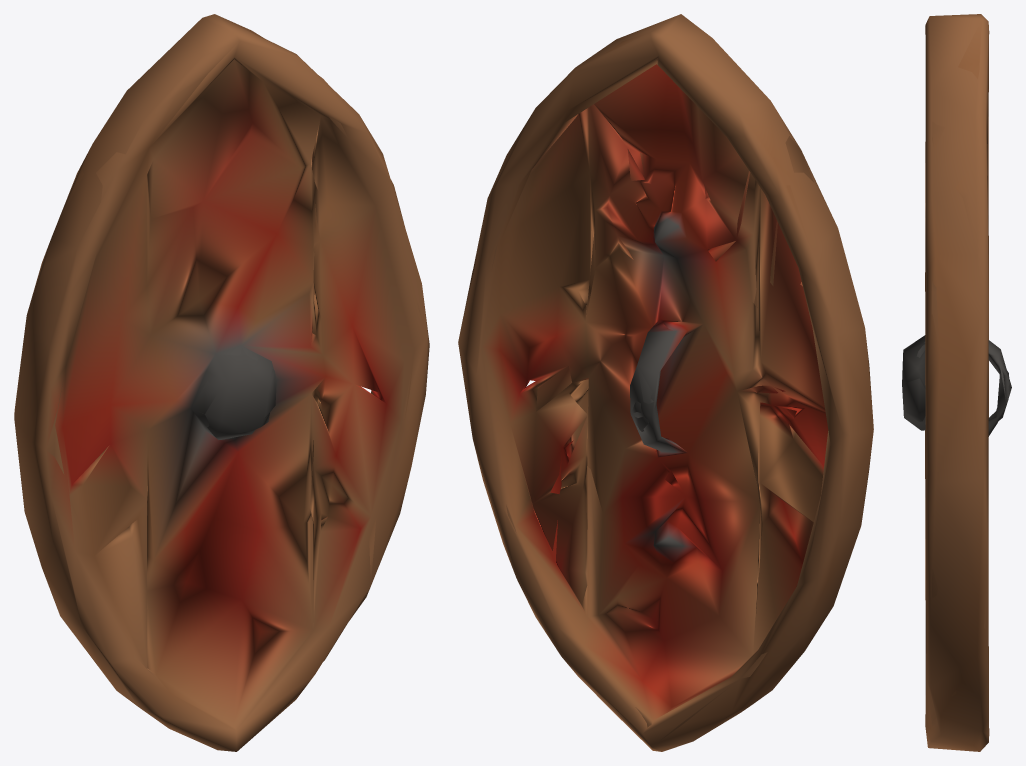
The model's file is gen3d-tribal-shield-lod1.glb.
3 views of the same model, side by side, from view 1: azimuth 30°, elevation 25°; view 2: azimuth 150°, elevation 25°; view 3: azimuth 270°, elevation 25° (orthographic).
Visible parts, largest first — view 1: part_0; view 2: part_0; view 3: part_0.
Boxes of the visible parts, left/top/right/bottom form: part_0: left=14, top=14, right=429, bottom=751; part_0: left=458, top=14, right=873, bottom=751; part_0: left=902, top=14, right=1011, bottom=751.
Size of the model in its own units: 0.5723 by 0.9956 by 0.1352.
